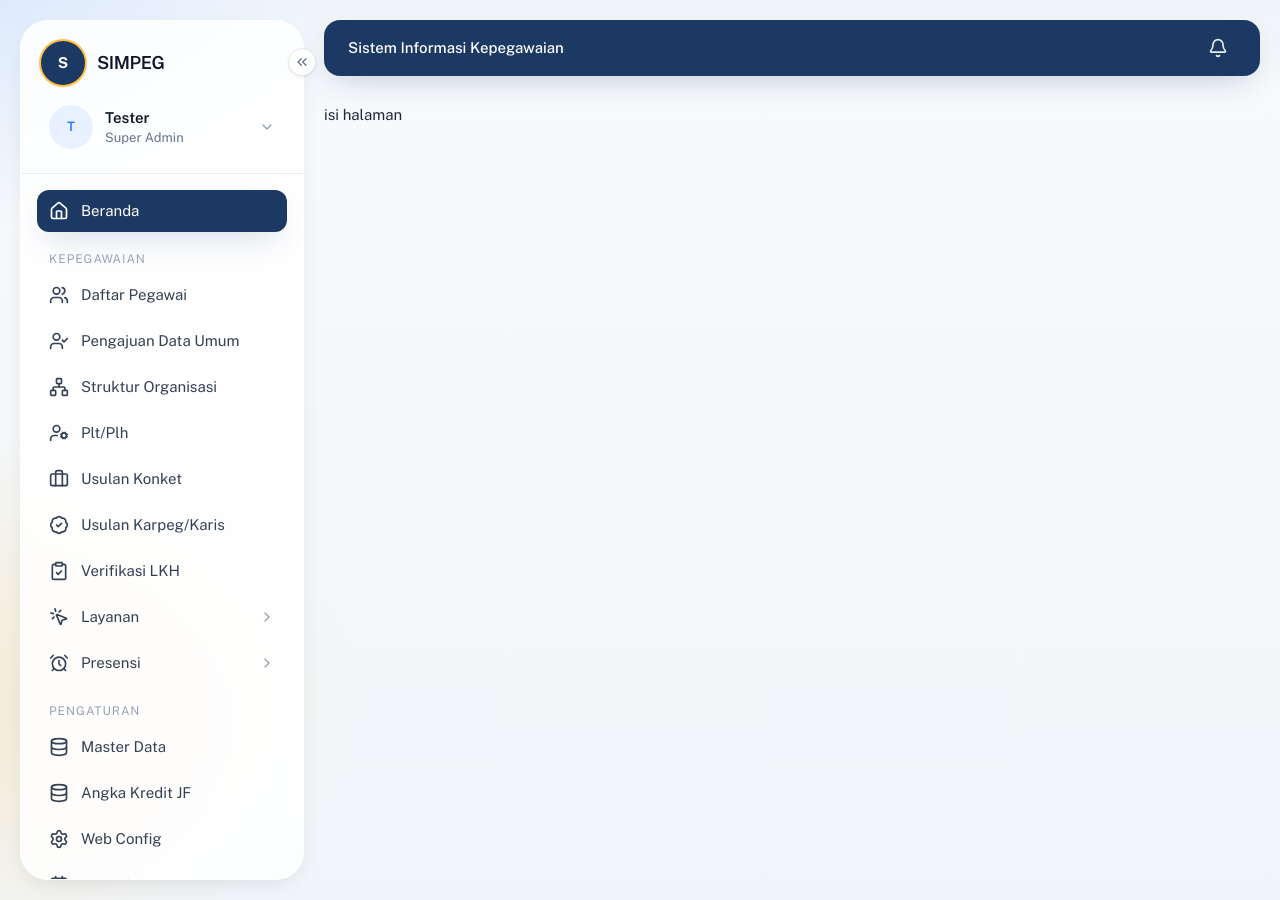
Scenario: RedesignShell — sidebar & layout › collapse mengubah lebar sidebar, menyembunyikan label secara visual (sr-only), dan diingat
The image size is (1280, 900).
Click the button with test id "sidebar-collapse": [302, 62] box [288,48,316,76]
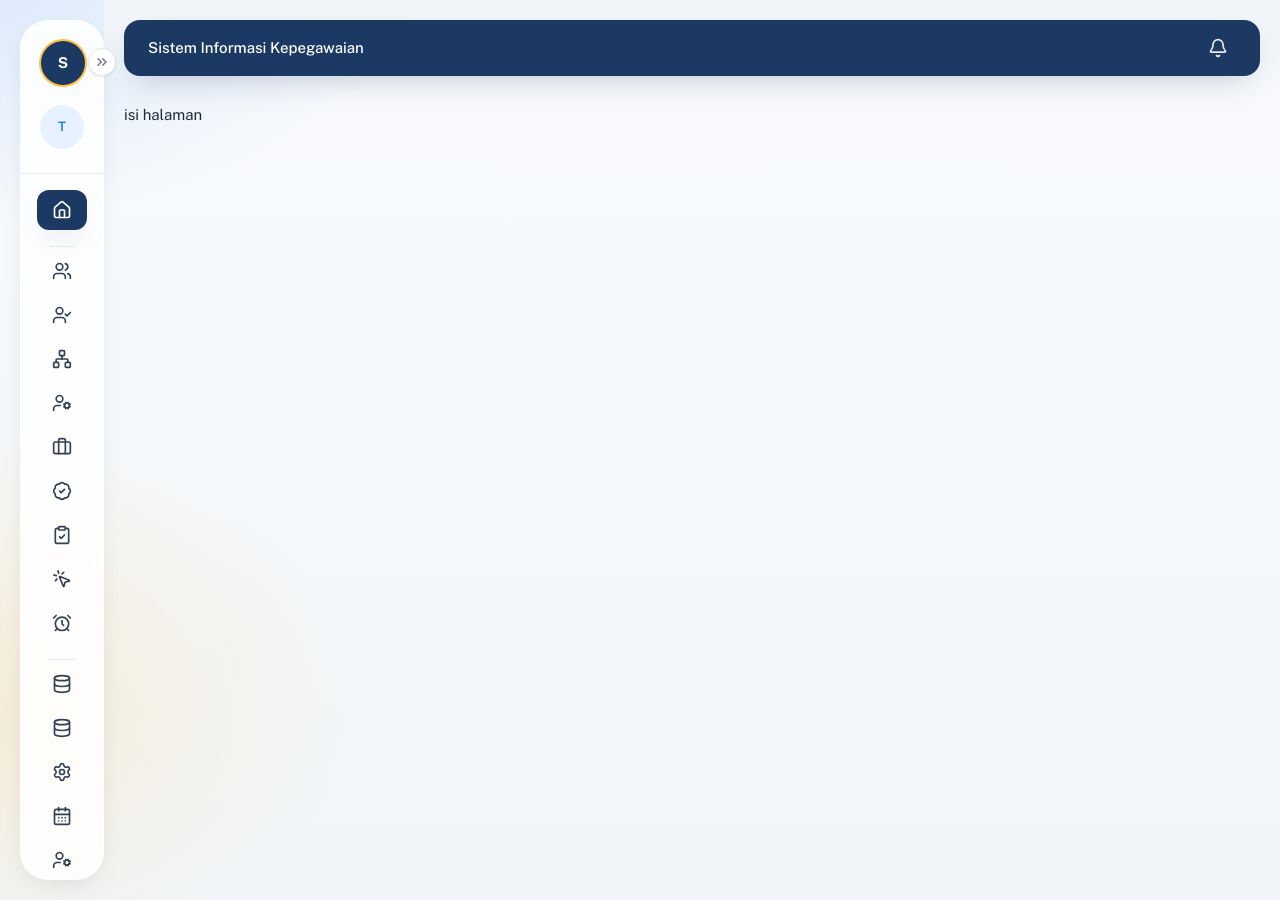
expect the button with test id "sidebar-collapse" is collapsed: met, box [88,48,116,76]
